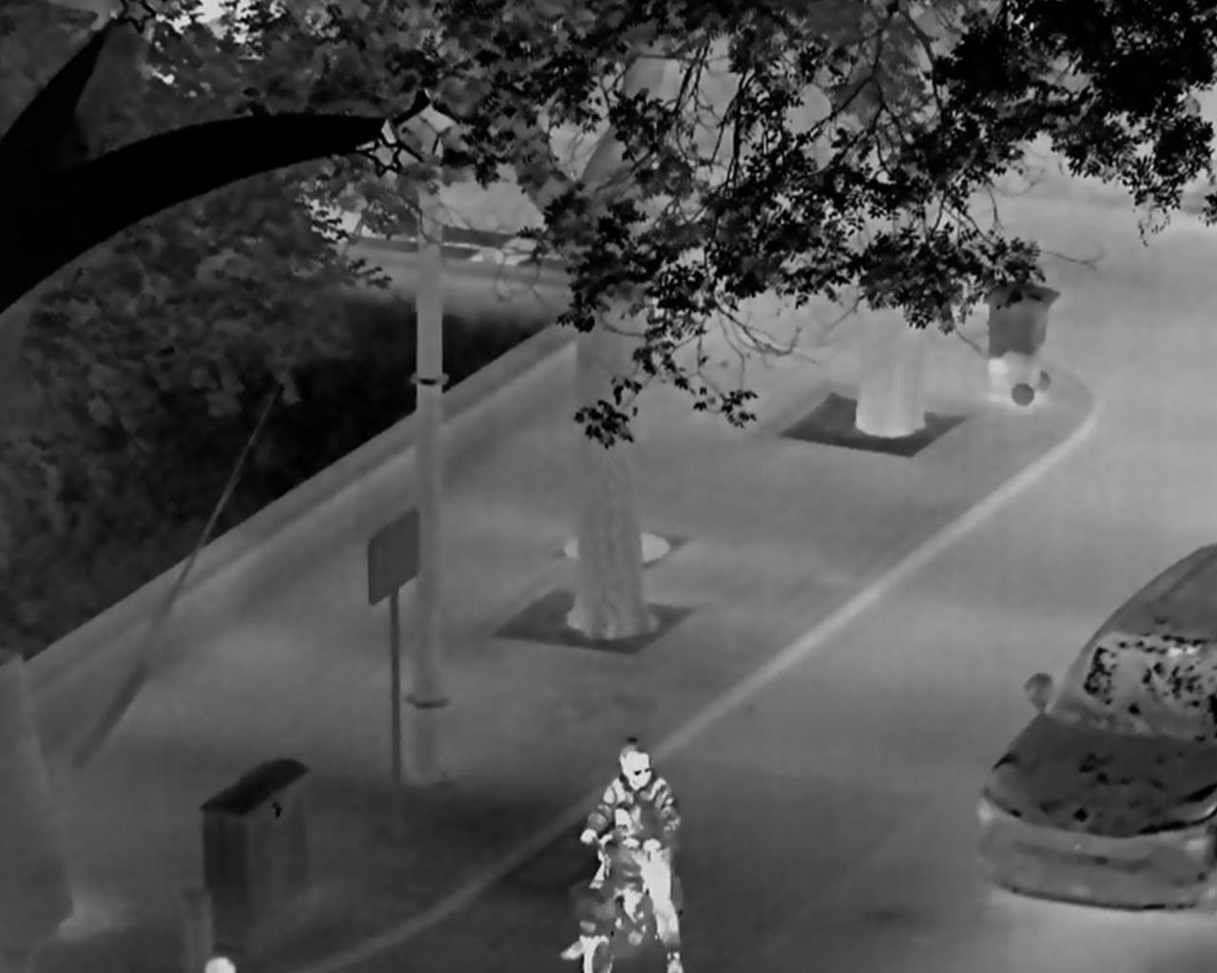person: (558, 735, 688, 973), (595, 801, 650, 947), (203, 951, 236, 973)
